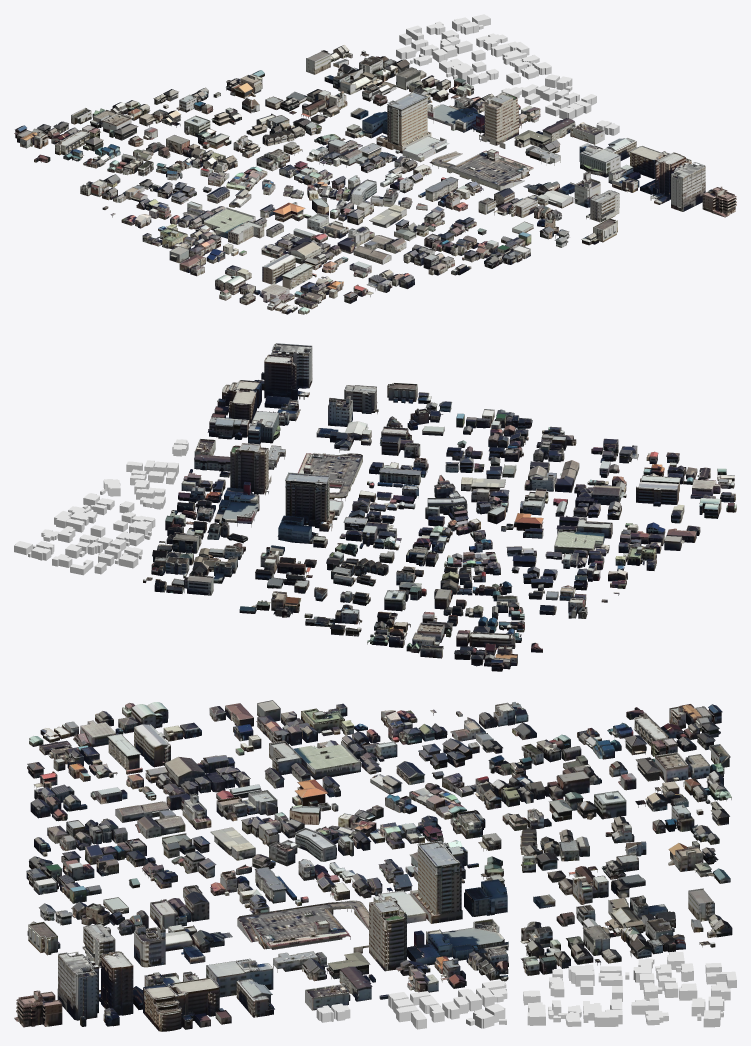
Rendered from 2023-lod3-station-3-2-packed.glb.
3 renders of one model, top to bottom at view 1: azimuth 30°, elevation 25°; view 2: azimuth 150°, elevation 25°; view 3: azimuth 270°, elevation 25°, orthographic. The views are drawn at different scales.
Size of the model in its own units: 490 by 41.33 by 467.
Materials: 9 (8 with a texture image).
